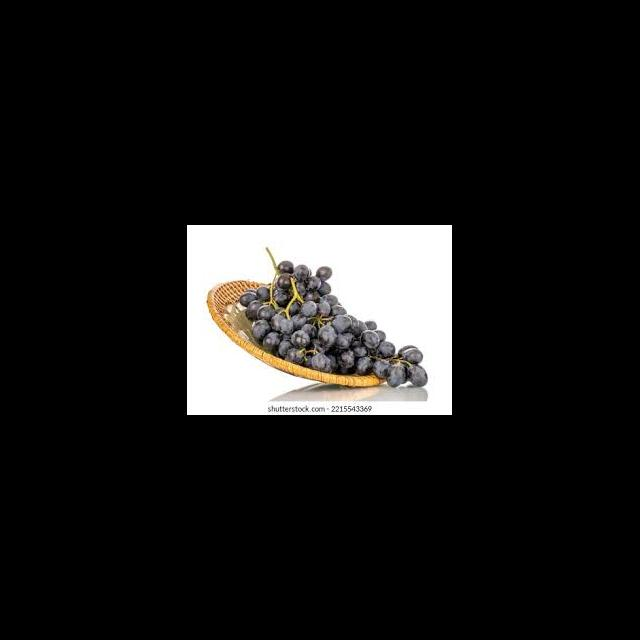grape: (238, 249, 428, 387)
